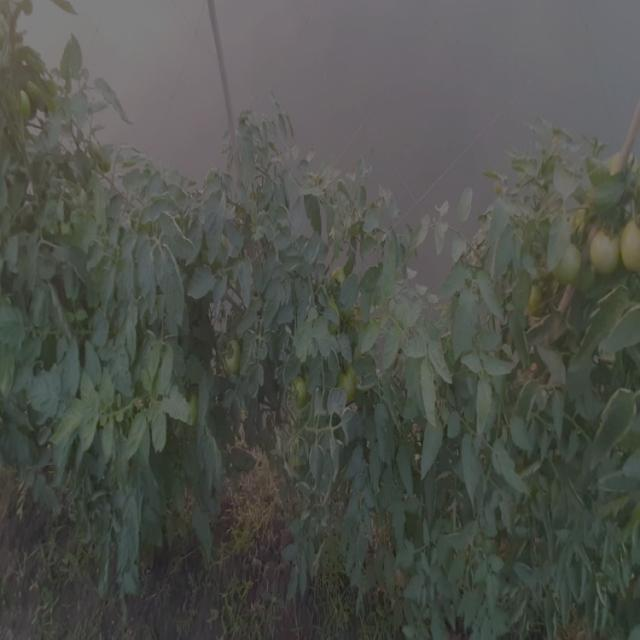tomato: (591, 219, 622, 278), (282, 368, 316, 409), (555, 236, 584, 284), (528, 274, 556, 319), (339, 368, 368, 411), (621, 213, 640, 276), (219, 334, 245, 376), (14, 81, 36, 118)
